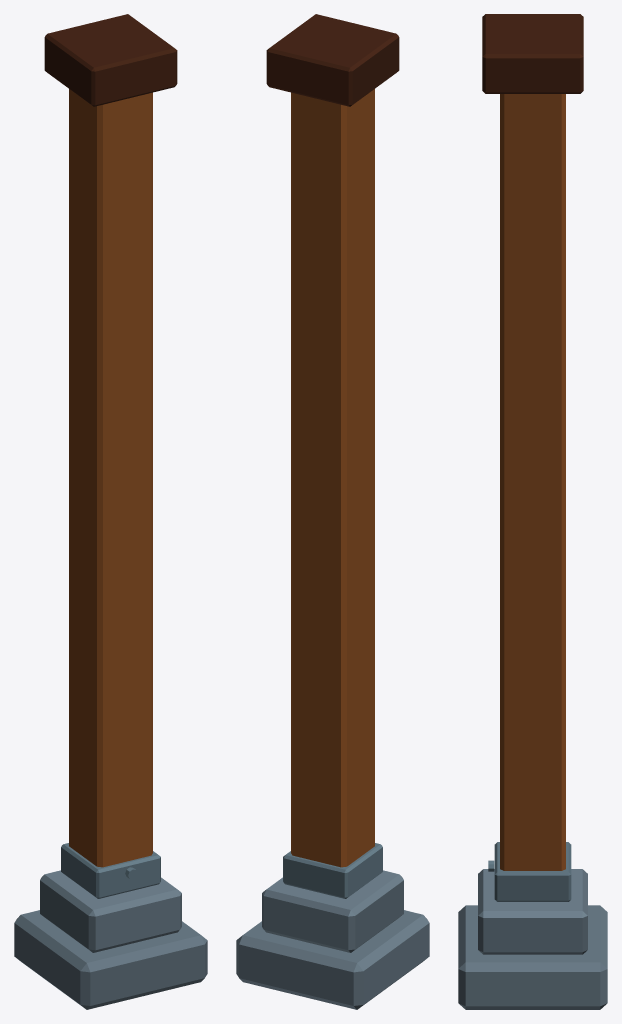
The model's file is QH_Porch_Post.fbx.
3 renders of one model, left to right at view 1: azimuth 30°, elevation 25°; view 2: azimuth 150°, elevation 25°; view 3: azimuth 270°, elevation 25°, orthographic.
Visible parts, largest first — view 1: QH_Porch_Post; view 2: QH_Porch_Post; view 3: QH_Porch_Post.
Part boxes in pixels (left/top/right/bottom): QH_Porch_Post: left=14, top=14, right=207, bottom=1009; QH_Porch_Post: left=236, top=14, right=429, bottom=1009; QH_Porch_Post: left=458, top=14, right=607, bottom=1009.
Bounding box in the file's own units: 0.34 × 2.38 × 0.34.
